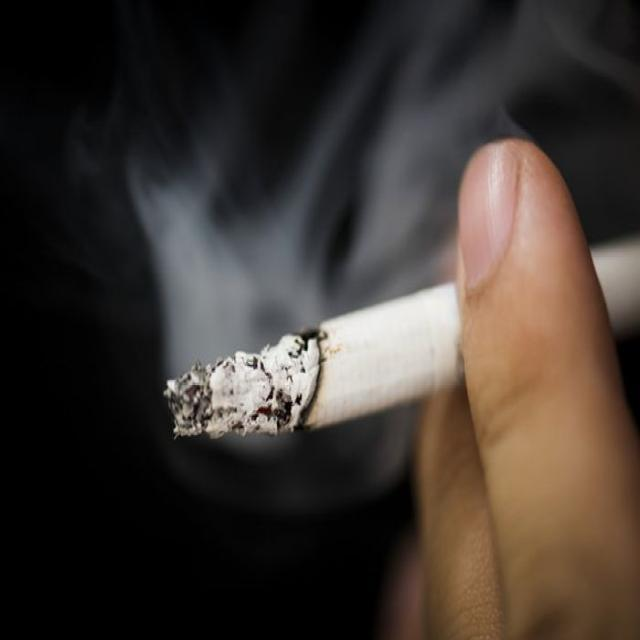rokok: (155, 231, 640, 448)
